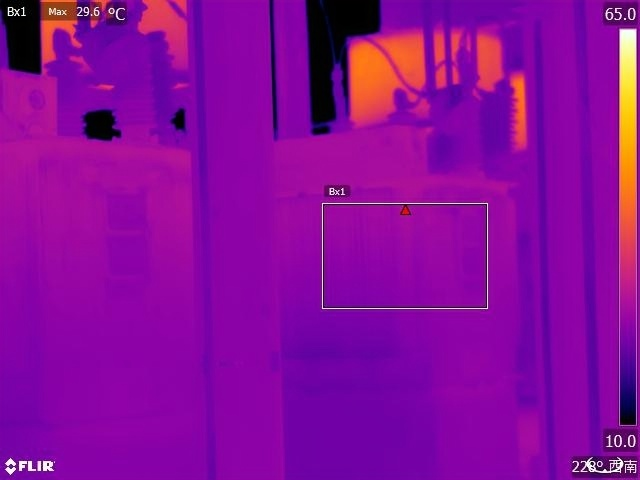capacitor: (337, 18, 516, 139)
tube: (102, 37, 156, 135), (42, 48, 86, 139), (487, 75, 517, 151)
